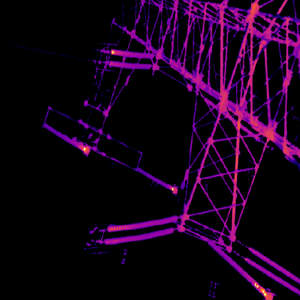insulator: (209, 235, 267, 296), (245, 243, 300, 295), (103, 215, 177, 244), (135, 165, 174, 191), (106, 49, 154, 70)
